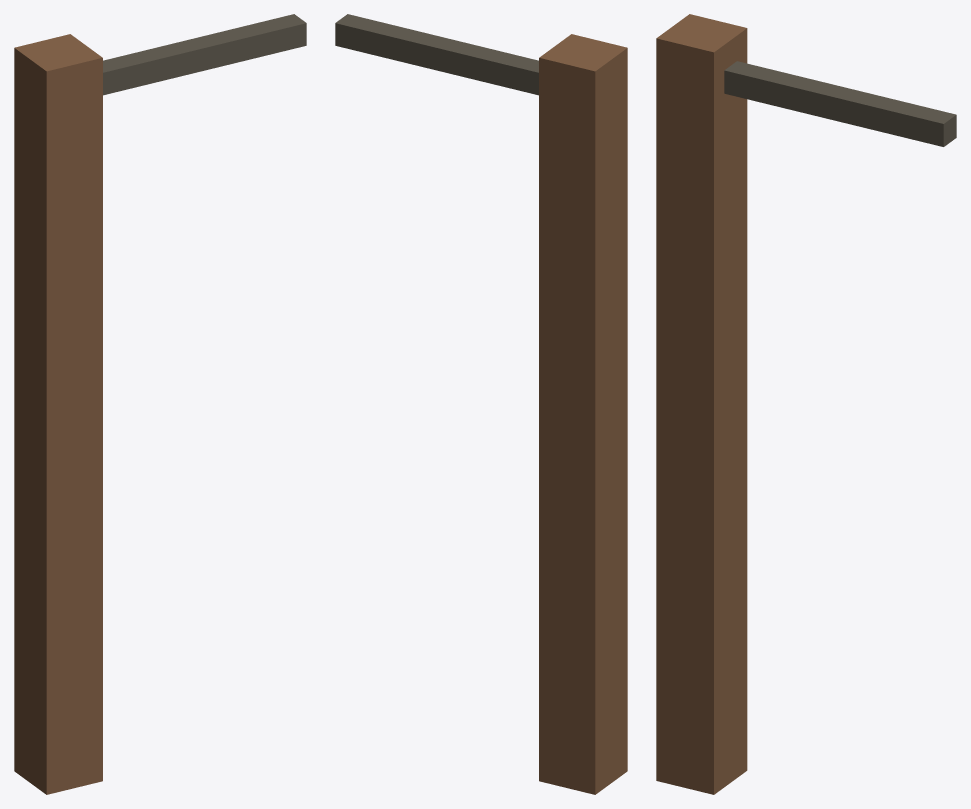
File: acc_tool_fishing.glb
The picture shows the model from 3 angles, left to right: view 1: azimuth 30°, elevation 25°; view 2: azimuth 150°, elevation 25°; view 3: azimuth 330°, elevation 25°; orthographic projection. The views are drawn at different scales.
Visible parts, largest first — view 1: acc_tool_fishing; view 2: acc_tool_fishing; view 3: acc_tool_fishing.
Part boxes in pixels (bbox=[...]): acc_tool_fishing: bbox=[14, 14, 306, 794]; acc_tool_fishing: bbox=[335, 14, 627, 794]; acc_tool_fishing: bbox=[656, 14, 956, 794].
Bounding box in the file's own units: 0.3125 × 0.8 × 0.065.
Materials: 1 (1 with a texture image).
